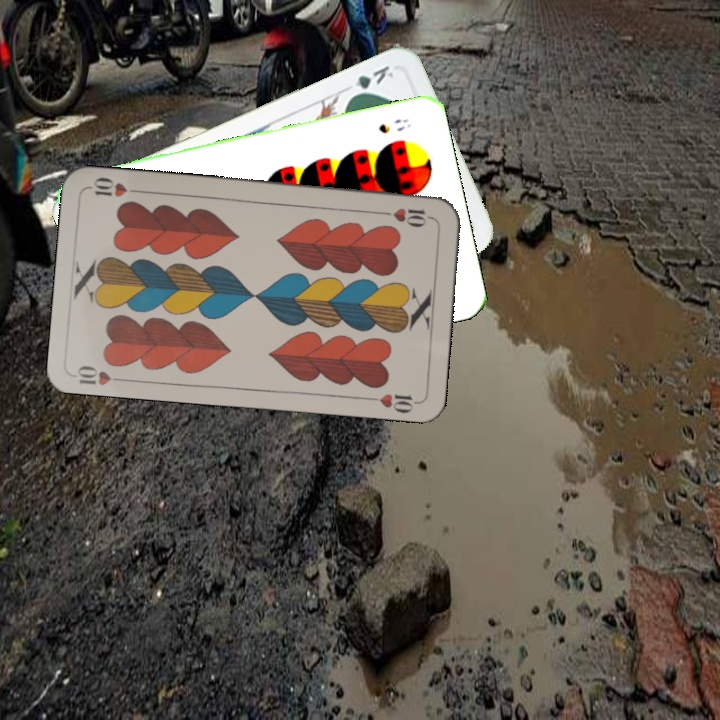GK: (345, 61, 396, 101)
H10: (71, 361, 130, 388), (375, 204, 435, 228)
S8: (375, 114, 413, 136)
